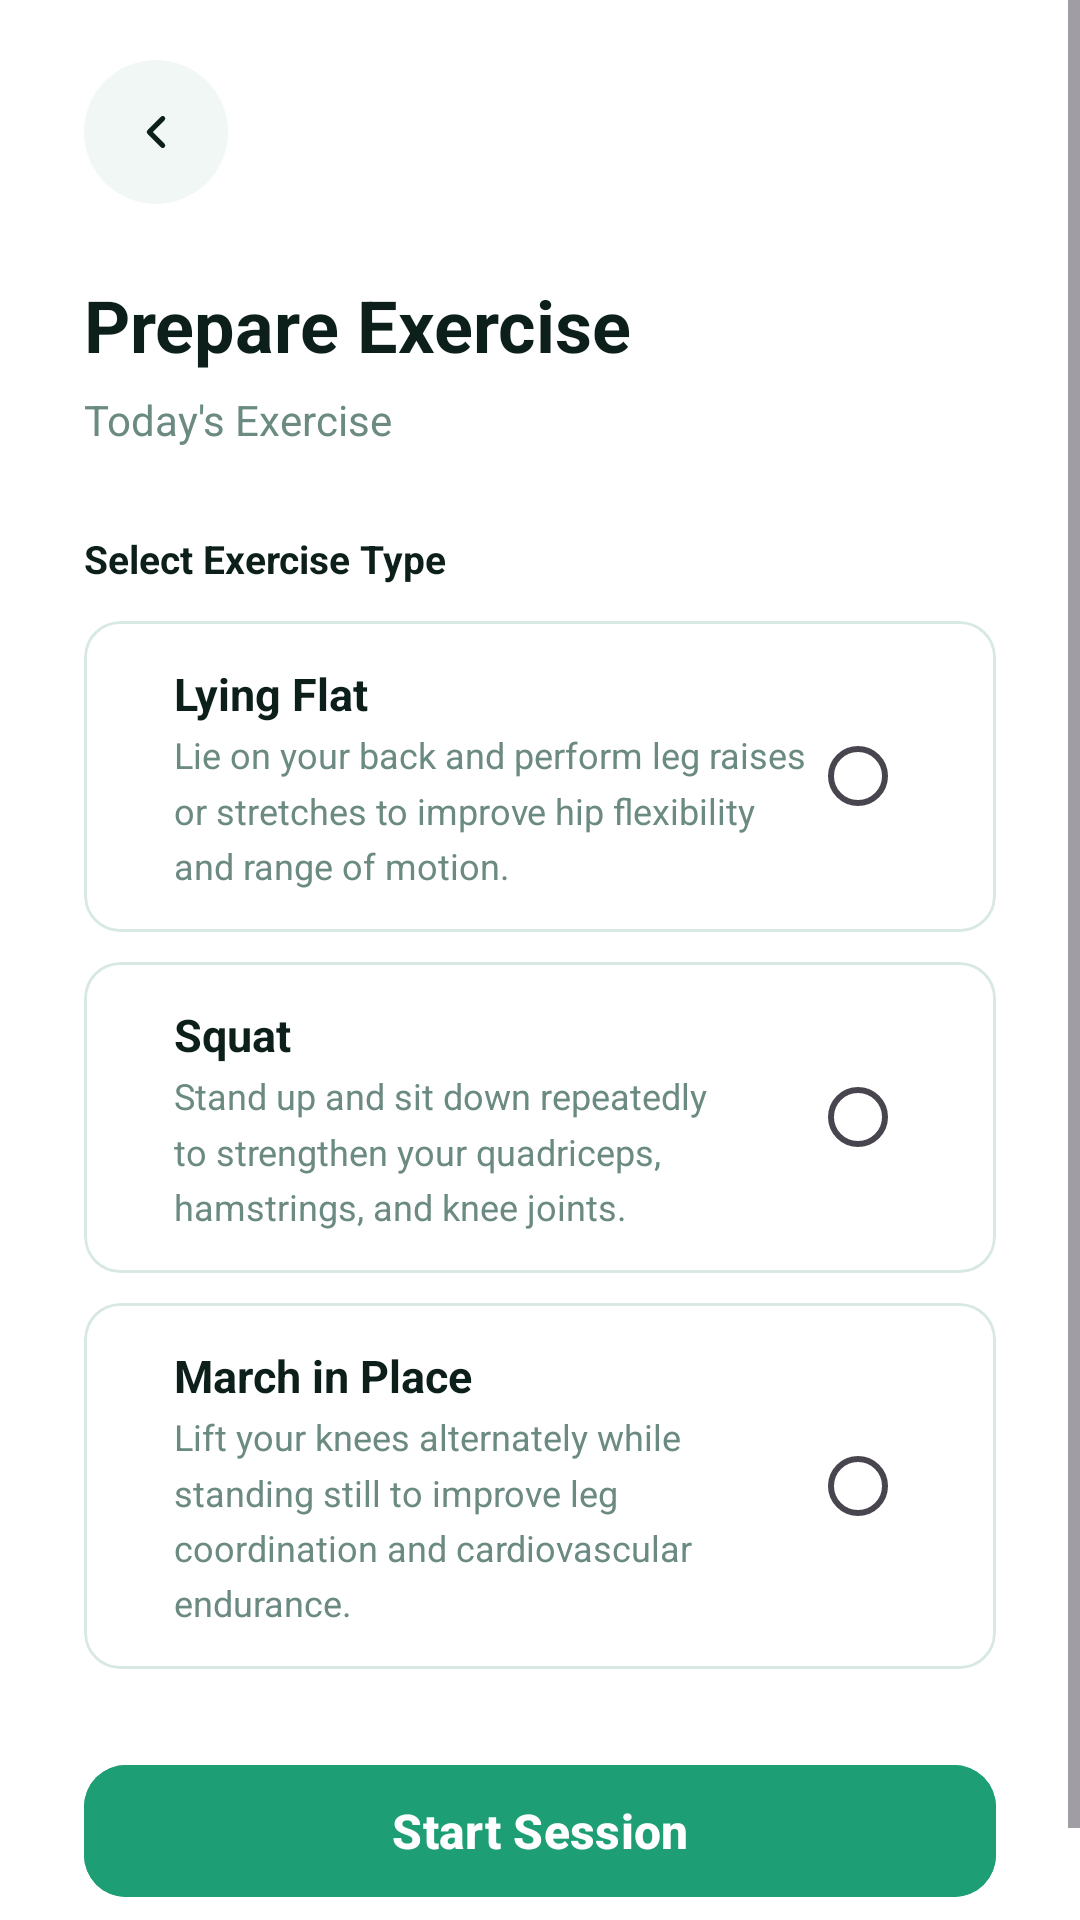

Locate icon controls on the screen. Image size 1080px×1920px, boxes as (x1, y1, x2, y2).
Back: (84, 60, 228, 204)
